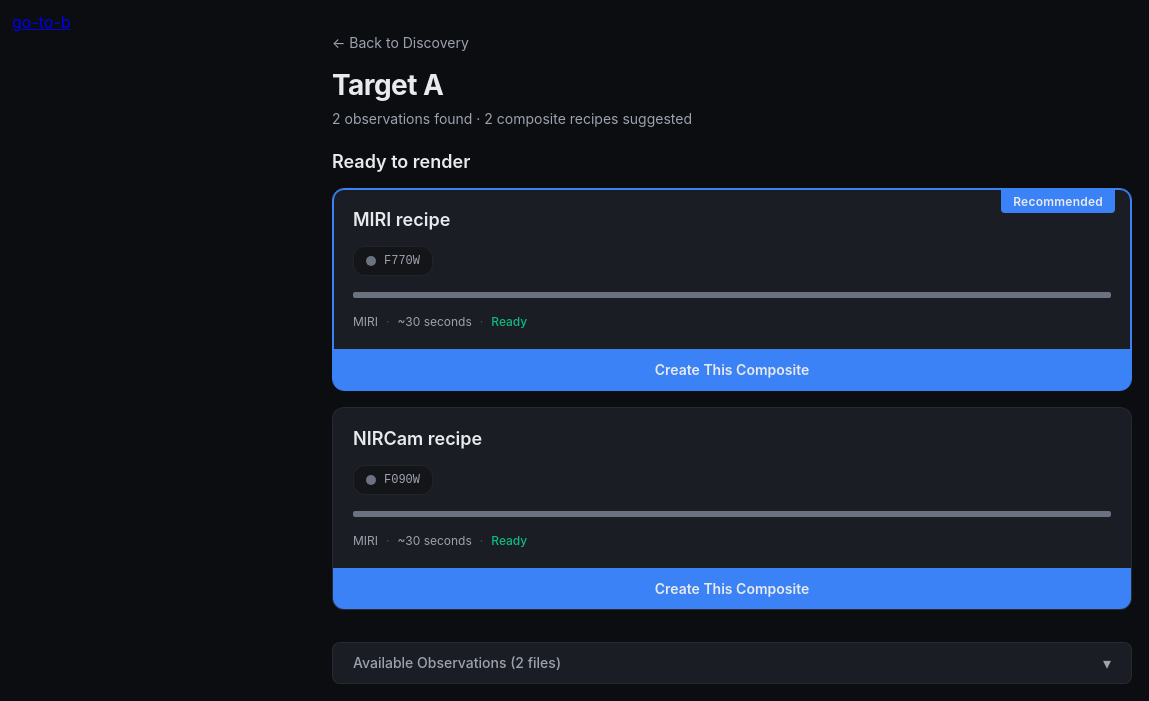
TargetDetail recipe grouping › navigating to a new target never groups with the previous target map (regression)
Check: the heading "Ready to render" is shown, box x1=332 y1=151 x2=470 y2=172
Click the link "go-to-b" at [41, 22], box x1=12 y1=12 x2=71 y2=32
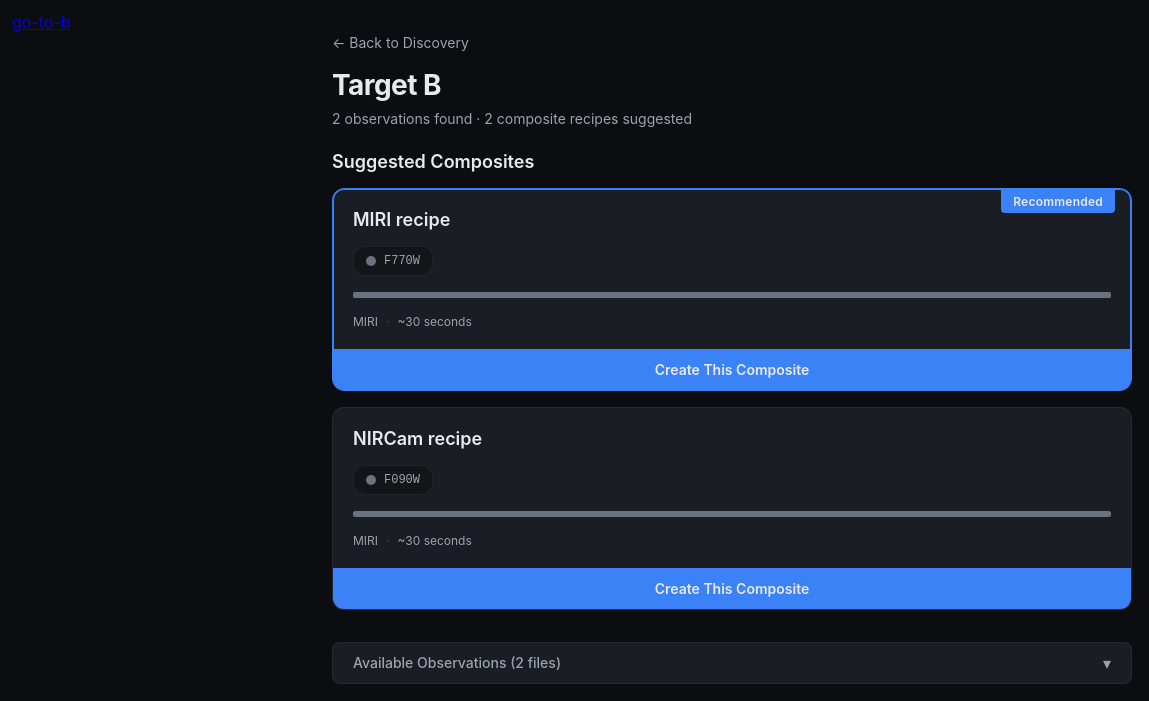
Check: the heading "Suggested Composites" is shown, box x1=332 y1=151 x2=534 y2=172
Check: the heading "Ready to render" is gone
